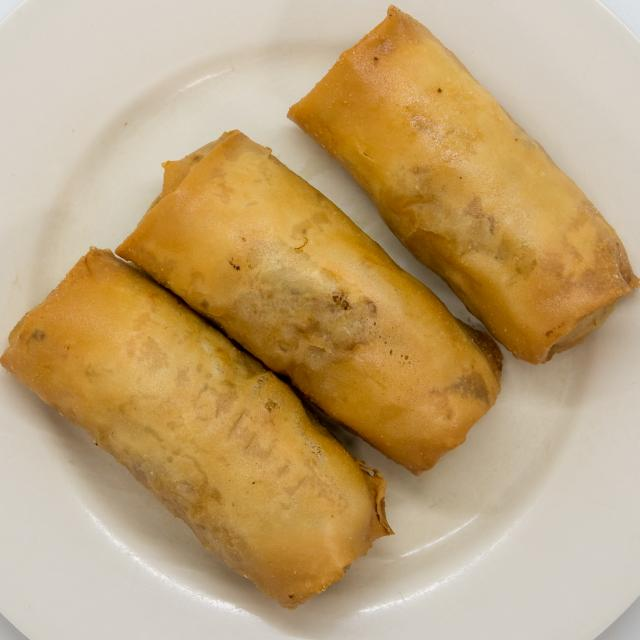Lumpia-Semarang: (17, 10, 626, 607)
